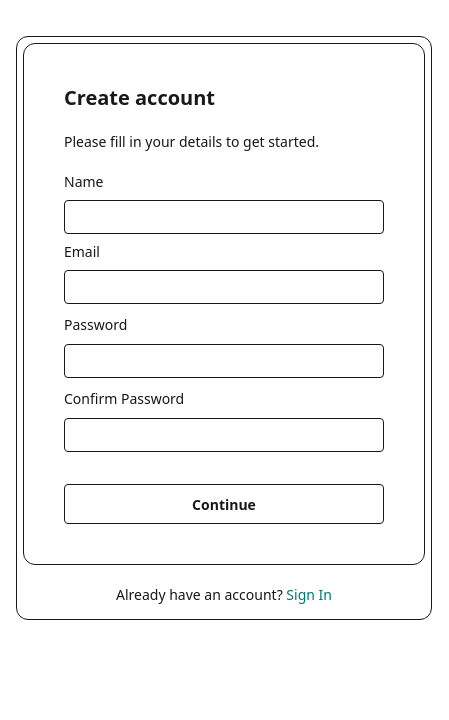
it: Sign Up › displays validation errors for passwords without numbers
The width and height of the screenshot is (449, 720).
Type "abcdefgh" into the password field labelled "Password" at (224, 361), box [64,344,384,378]
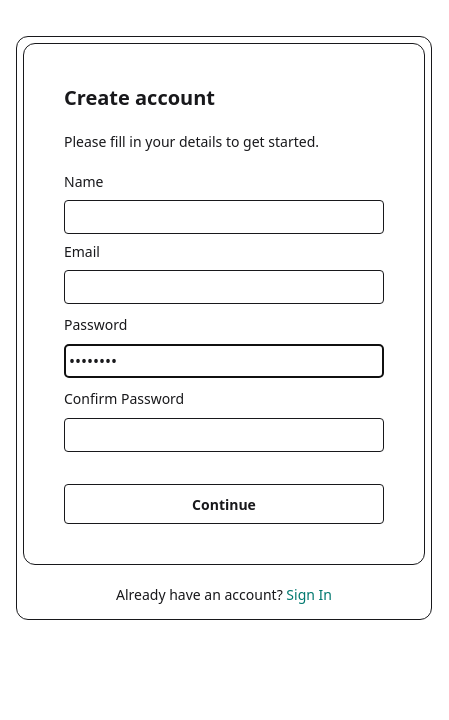
Click the button "Continue" at (224, 504), box [64,484,384,524]
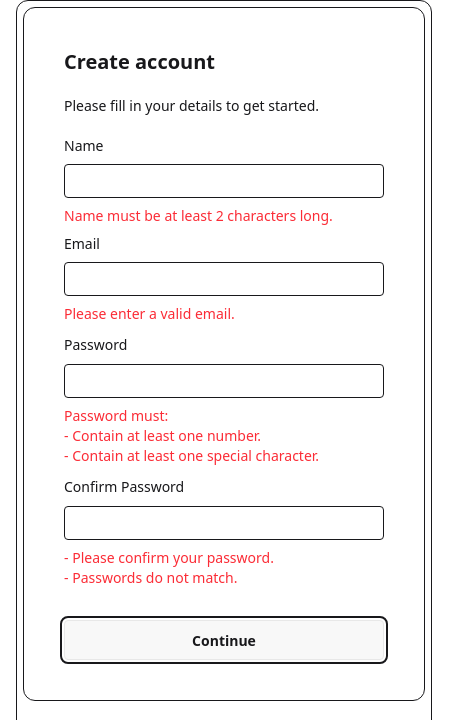
Expected: the list item "- Contain at least one number." is shown, [64,426,261,445]
